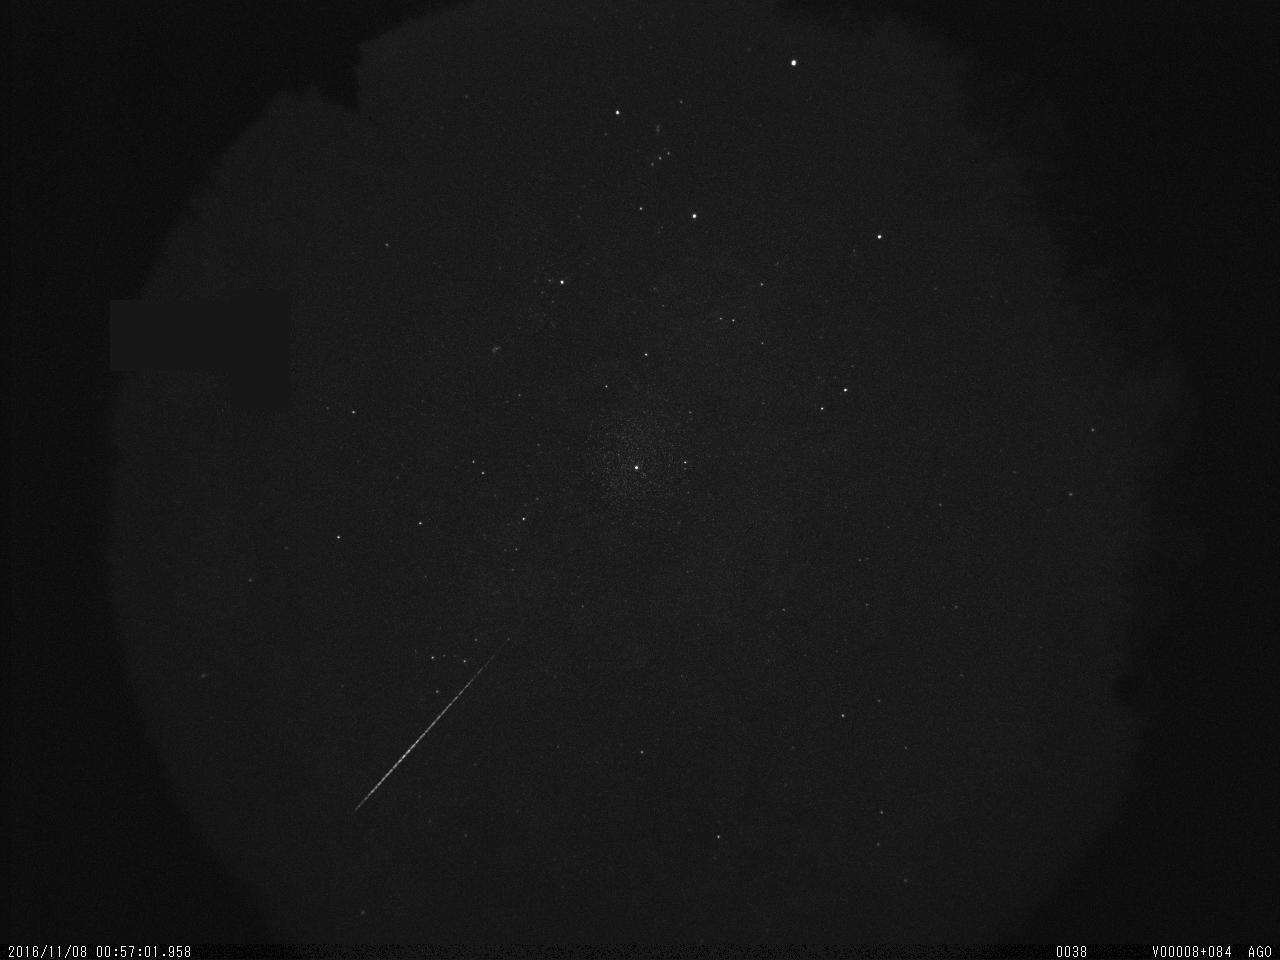Meteor: (346, 624, 519, 819)
